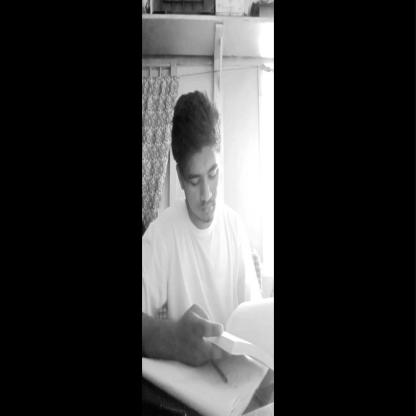Distracted: (168, 94, 229, 238)
